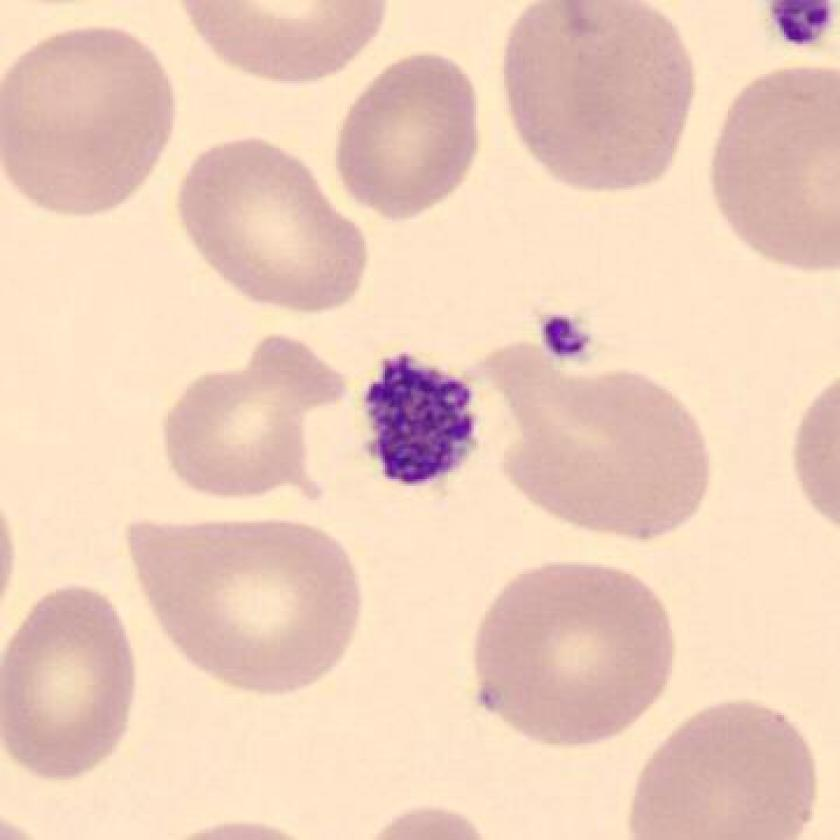platelets: (342, 337, 496, 503), (524, 293, 608, 378)
